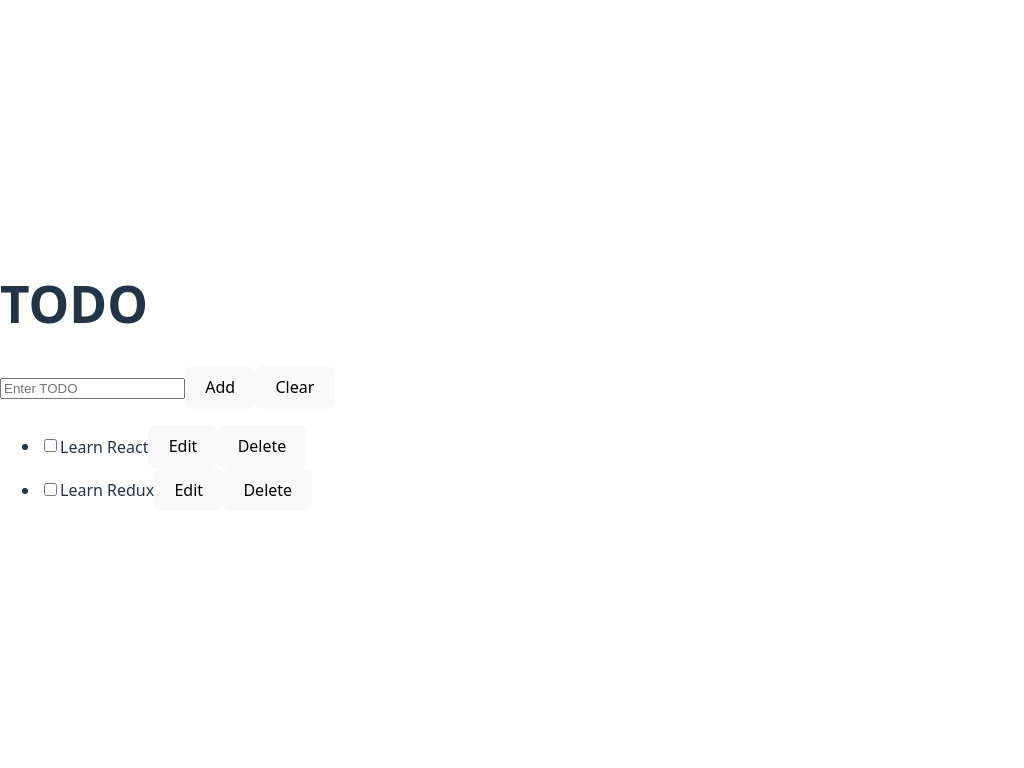
Test: TODO App › User can edit todo
Click the button "Edit" next to "Learn React" at (183, 446), box x1=148 y1=425 x2=218 y2=468
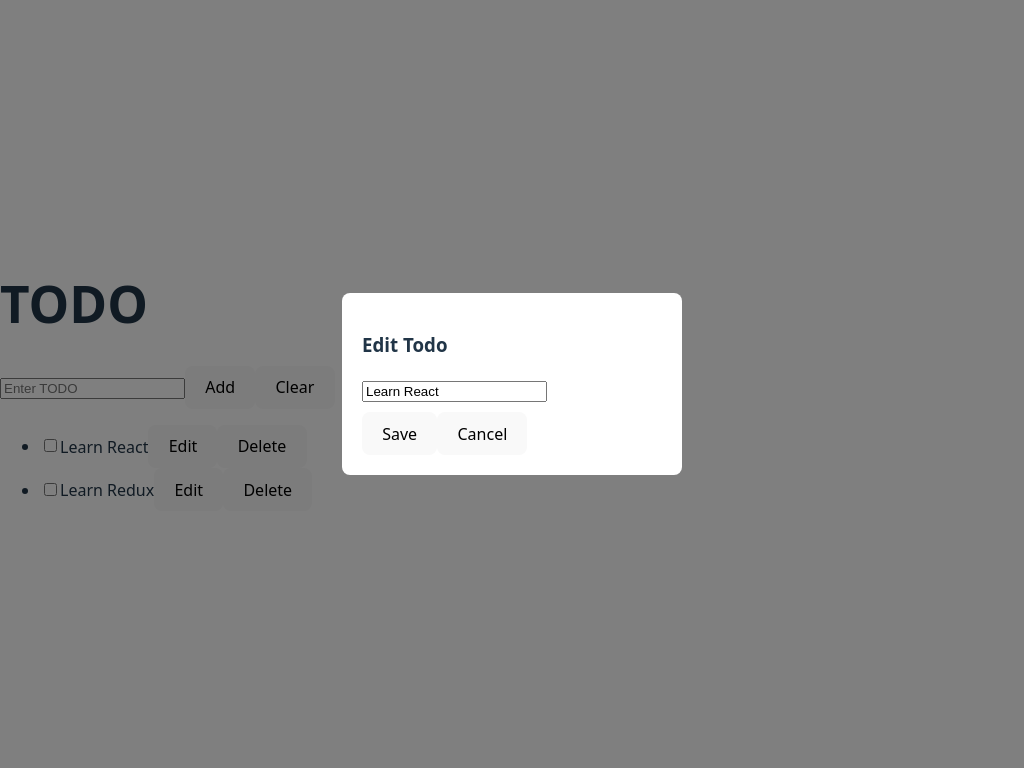
Replace the text in the field showing "Learn React" with "Learn Jest" at (454, 392), box x1=362 y1=381 x2=547 y2=402
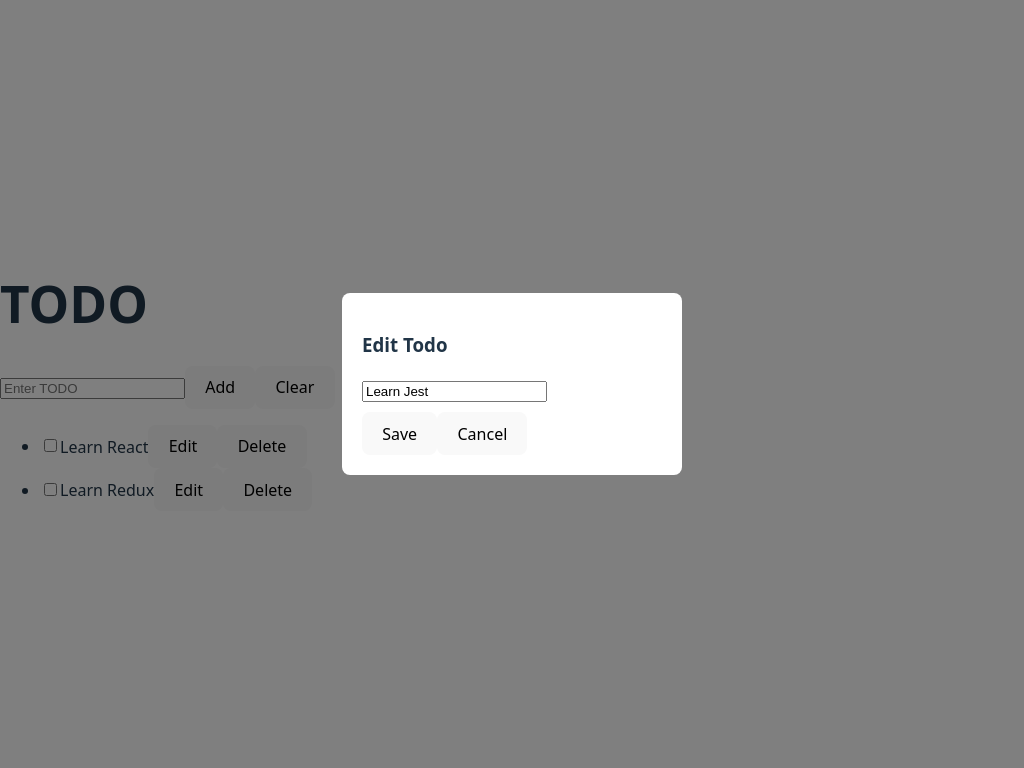
Click the button "Save" at (400, 434), box x1=362 y1=412 x2=437 y2=455
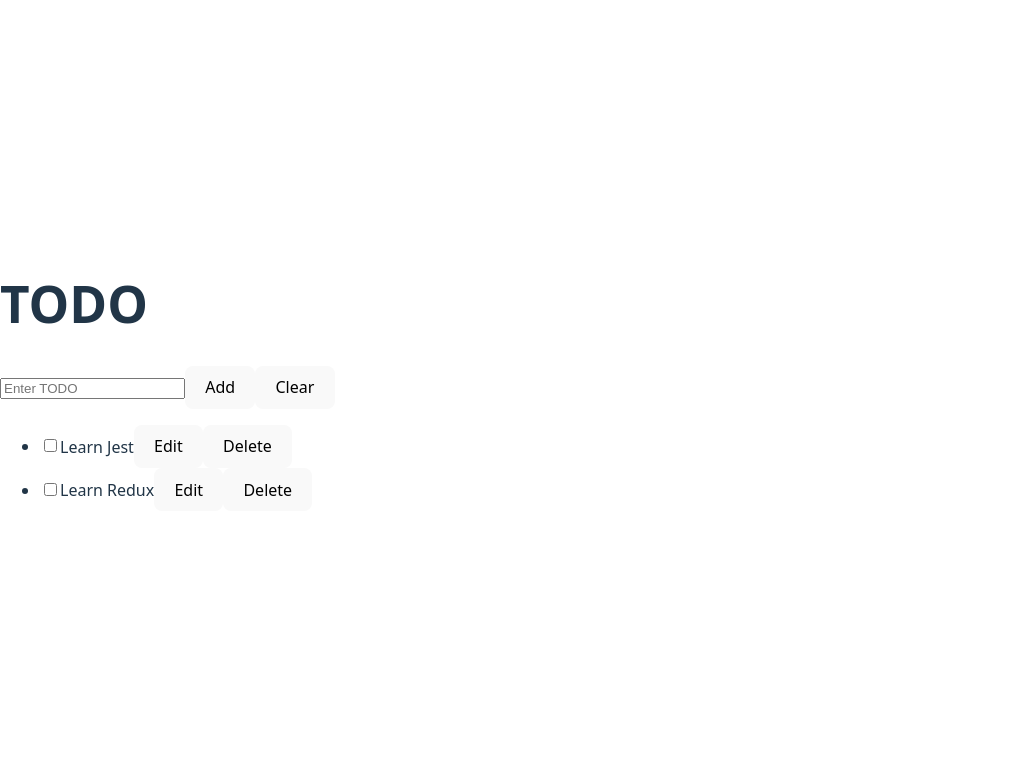
Now the text "Learn Jest" is shown, box x1=60 y1=436 x2=134 y2=458
